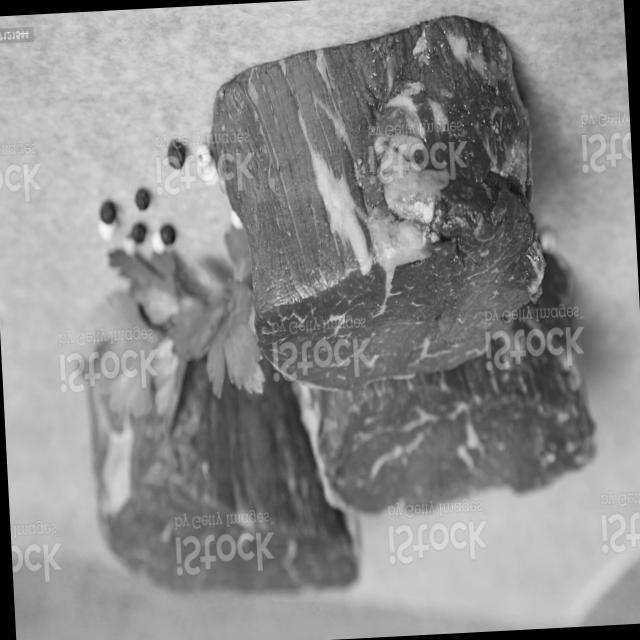beef tenderloin steak: (242, 15, 543, 368)
